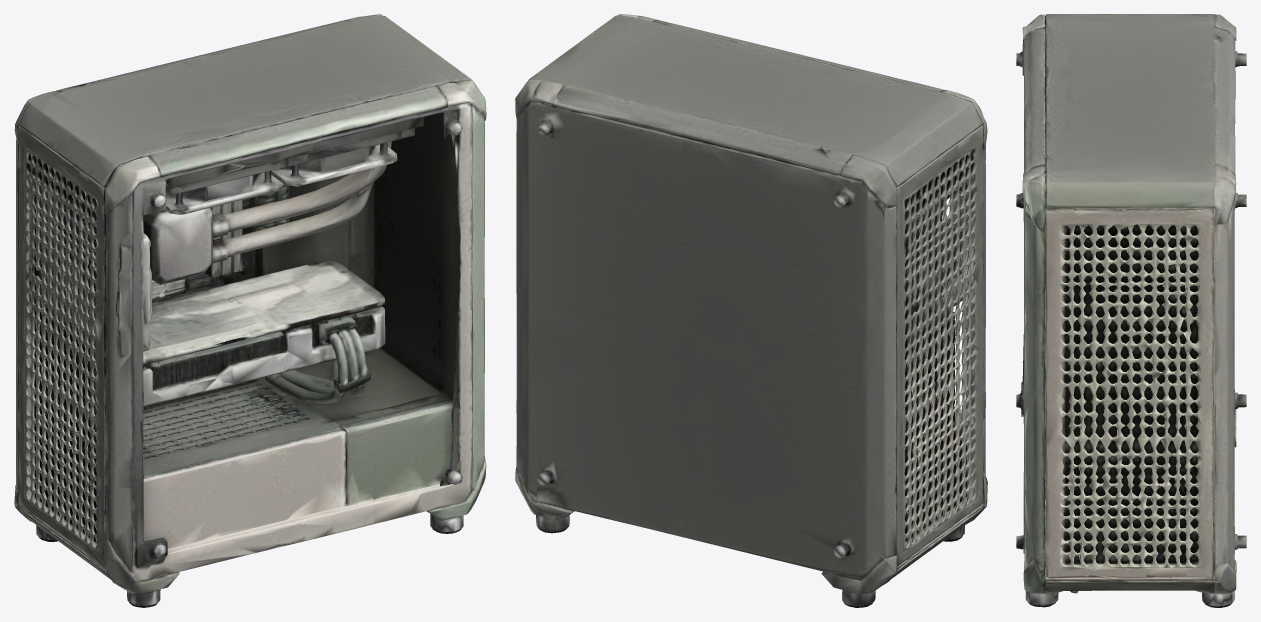
File: computer-case-preview.glb
The picture shows the model from 3 angles, left to right: view 1: azimuth 30°, elevation 25°; view 2: azimuth 150°, elevation 25°; view 3: azimuth 270°, elevation 25°; orthographic projection. The views are drawn at different scales.
Visible parts, largest first — view 1: tripo_node_b7136f95-1470-4d6e-951a-3dd04a43f271; view 2: tripo_node_b7136f95-1470-4d6e-951a-3dd04a43f271; view 3: tripo_node_b7136f95-1470-4d6e-951a-3dd04a43f271.
Part boxes in pixels (x1=…): tripo_node_b7136f95-1470-4d6e-951a-3dd04a43f271: x1=14, y1=14, x2=486, y2=607; tripo_node_b7136f95-1470-4d6e-951a-3dd04a43f271: x1=515, y1=14, x2=987, y2=607; tripo_node_b7136f95-1470-4d6e-951a-3dd04a43f271: x1=1016, y1=14, x2=1246, y2=607.
Bounding box in the file's own units: 0.8756 × 0.98 × 0.4714.
1 material, 1 textured.
